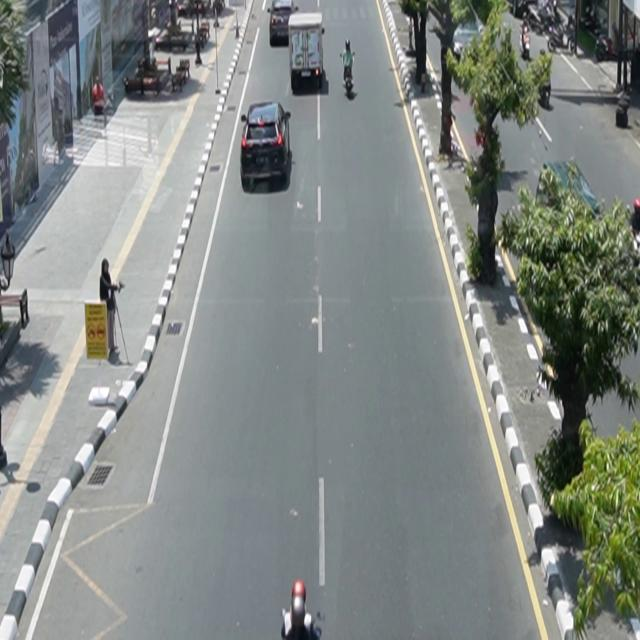bus: (289, 13, 326, 93)
car: (241, 101, 292, 185), (453, 16, 486, 60), (269, 1, 300, 47)
